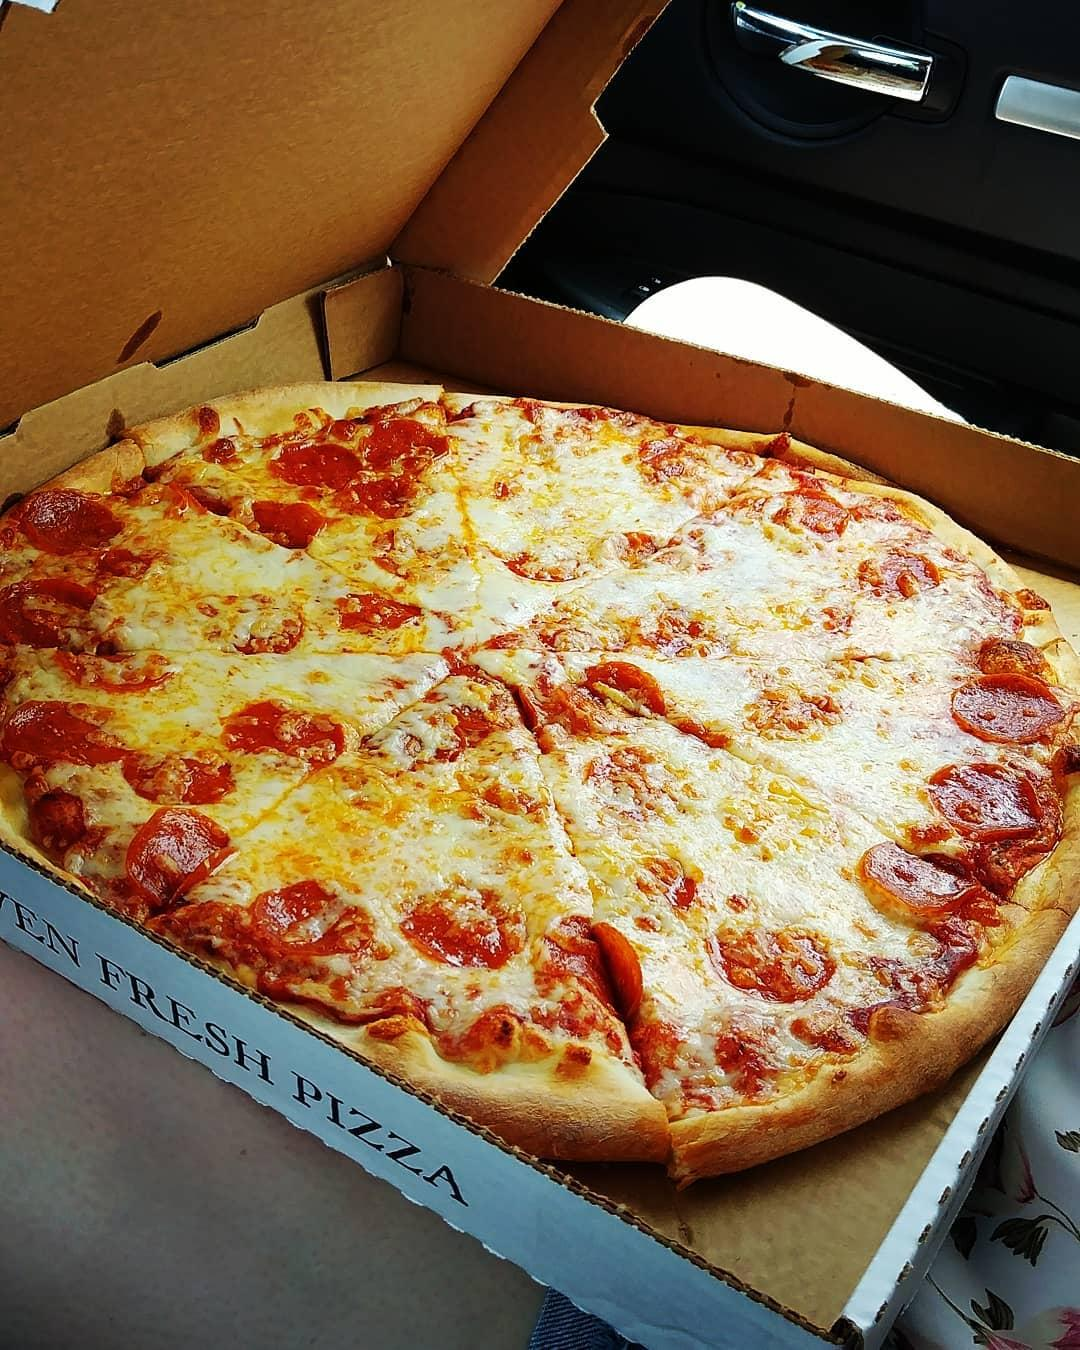Pepperoni: (225, 863, 385, 964), (364, 668, 514, 765), (100, 808, 239, 908), (514, 657, 674, 739), (208, 688, 358, 775), (2, 688, 138, 776), (700, 921, 843, 1004), (926, 754, 1044, 851), (854, 832, 982, 921), (403, 879, 532, 968), (0, 569, 119, 662), (552, 910, 654, 1019), (943, 666, 1069, 749), (9, 480, 130, 561), (109, 742, 242, 809), (749, 482, 856, 551), (204, 597, 316, 656), (222, 494, 330, 554), (350, 417, 457, 468), (849, 544, 943, 602), (263, 441, 365, 494), (323, 582, 431, 631), (628, 428, 712, 480)
Pizza: (0, 376, 1080, 1182)
